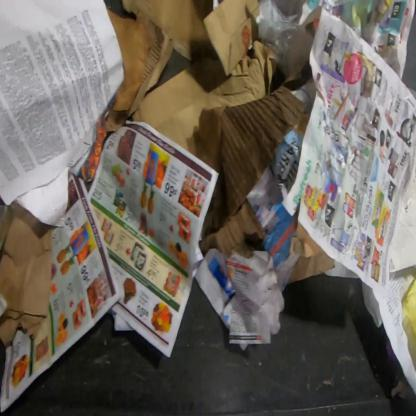cardboard: (186, 85, 307, 260), (132, 41, 277, 151), (105, 6, 176, 133), (0, 195, 53, 349), (285, 220, 336, 286)
